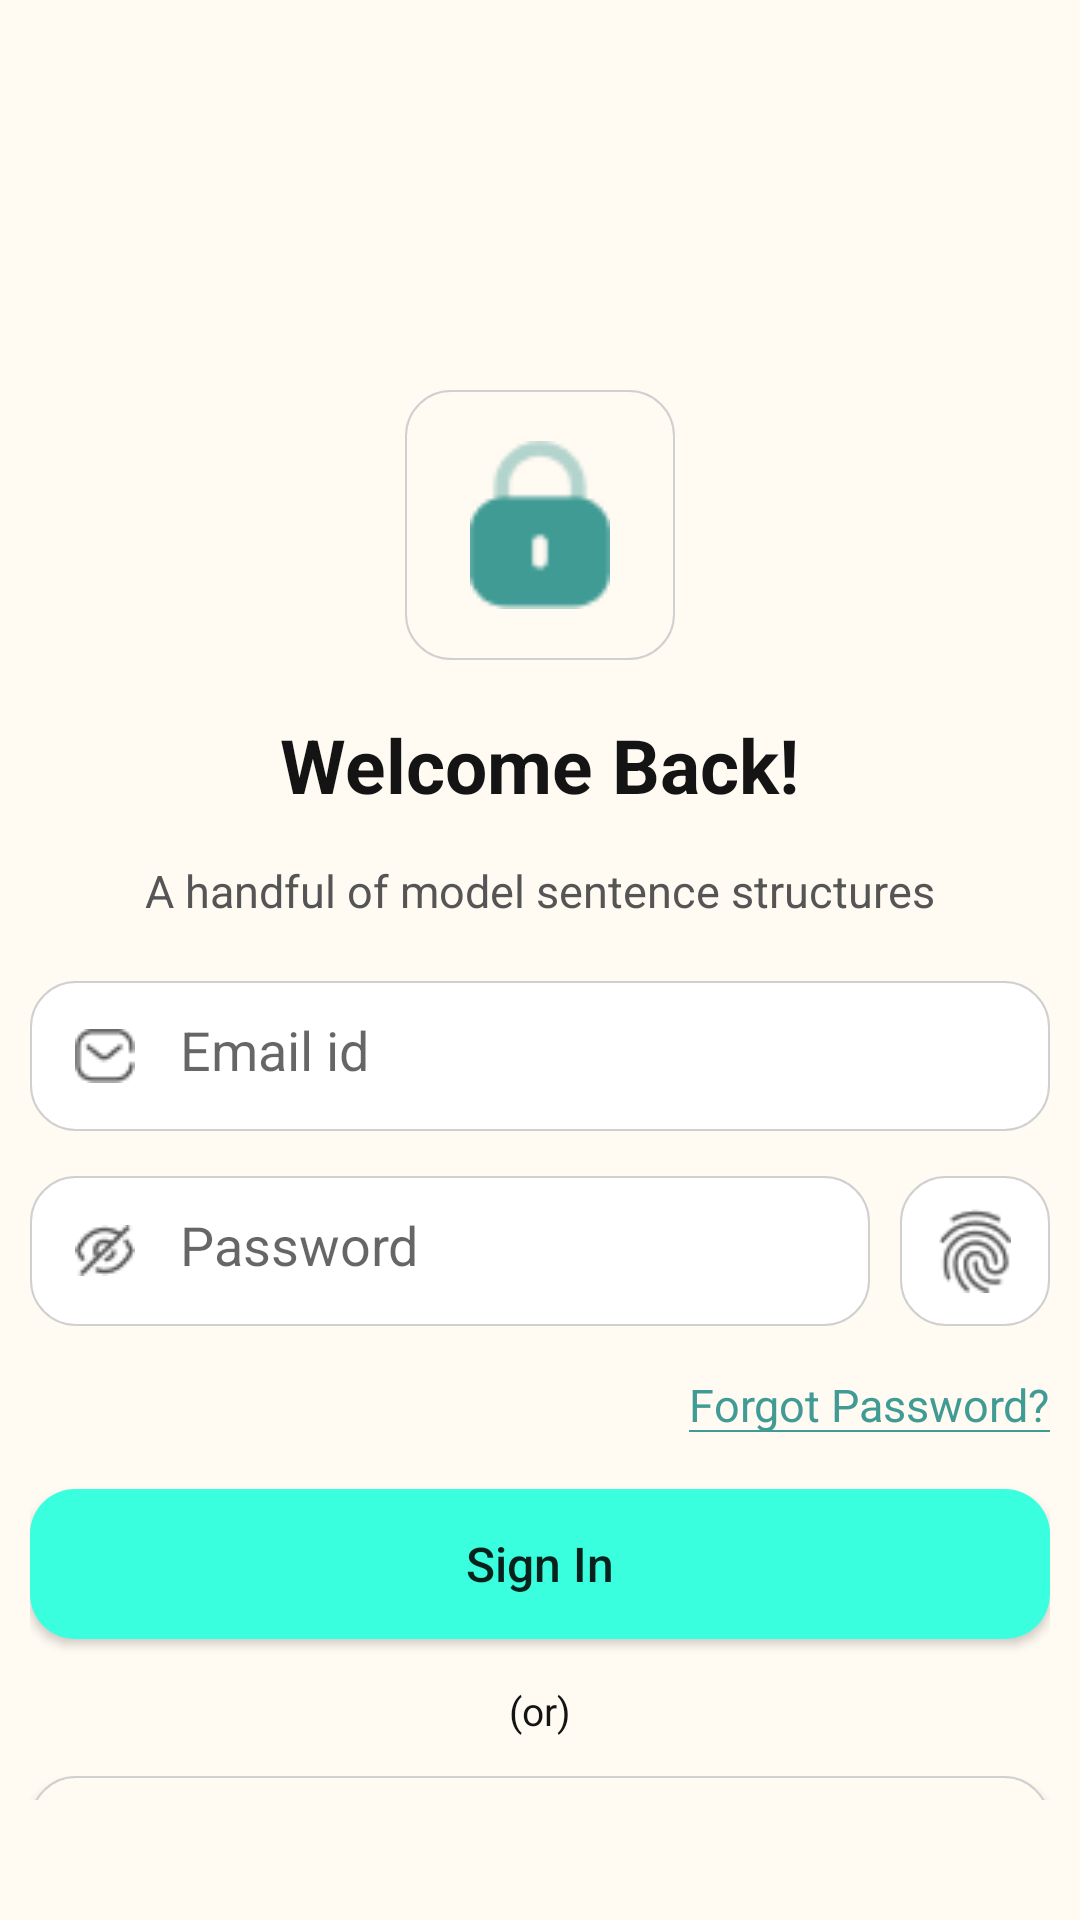

Screen size 1080w x 1920h. Icon name, then its box in pixels as (x1, y1, x2, y2):
fingerprent: (900, 1176, 1050, 1326)
lock: (405, 390, 675, 660)
